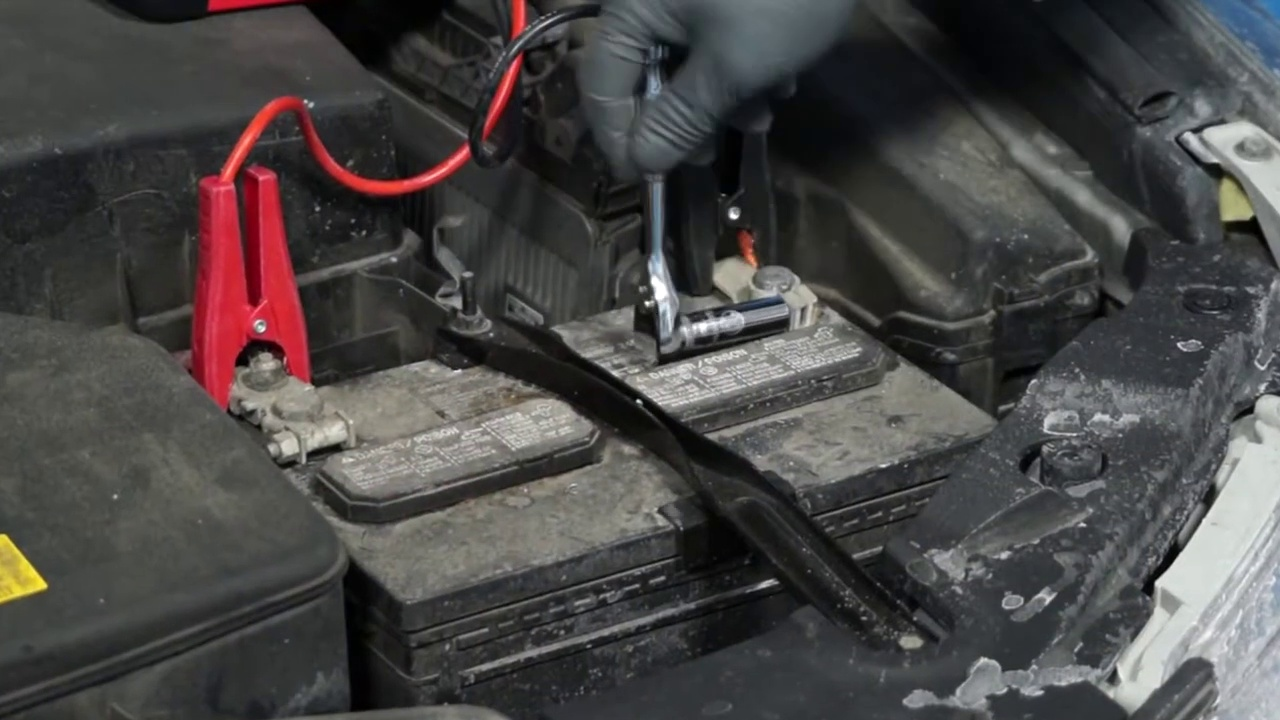battery: (215, 260, 1001, 608)
neg_connected: (703, 225, 813, 346)
neg_touched: (573, 36, 834, 344)
pos_connected: (195, 284, 352, 467)
